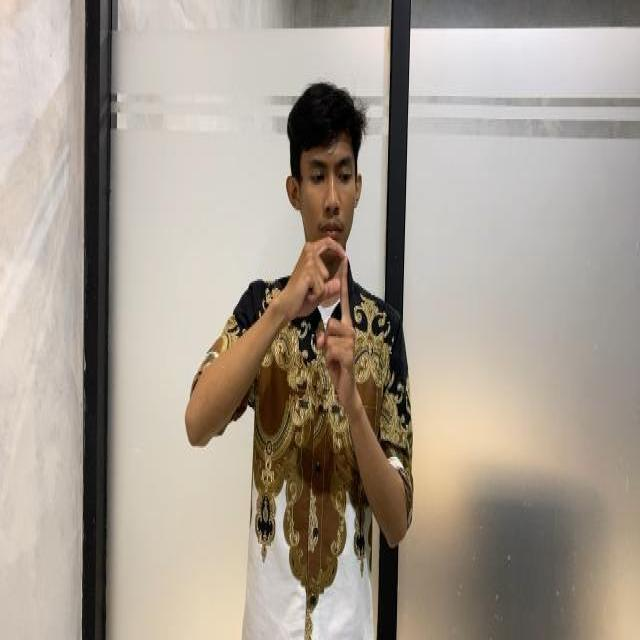P: (284, 228, 382, 390)
